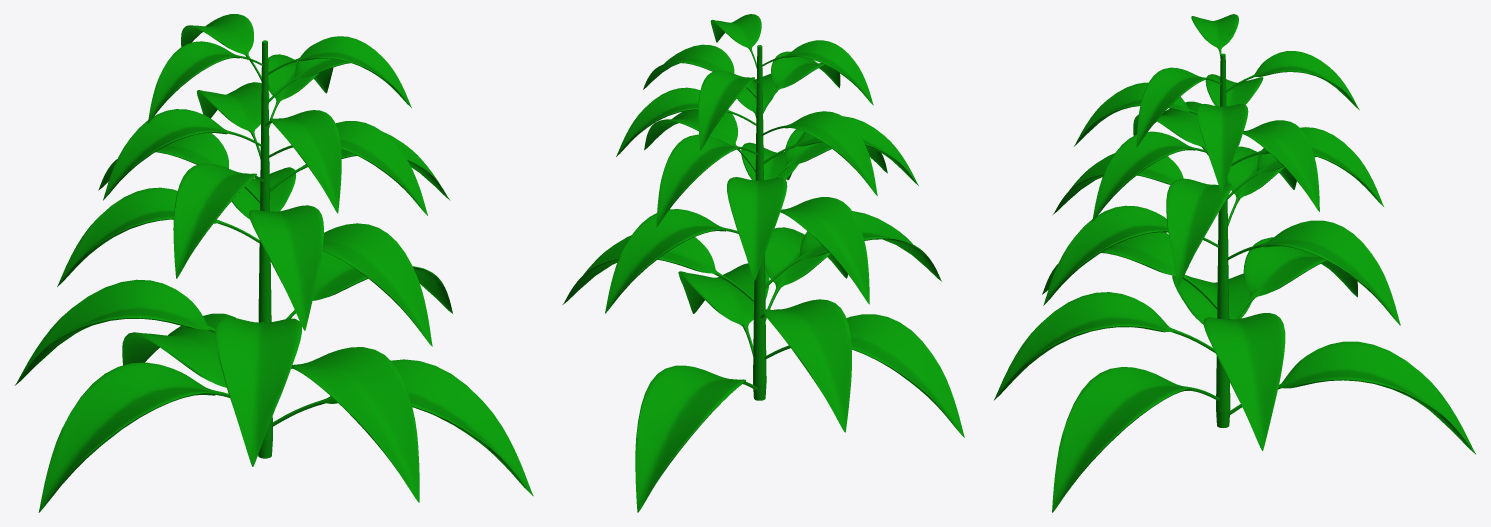
File: Plant.fbx
The picture shows the model from 3 angles, left to right: view 1: azimuth 30°, elevation 25°; view 2: azimuth 150°, elevation 25°; view 3: azimuth 270°, elevation 25°; orthographic projection. The views are drawn at different scales.
Visible parts, largest first — view 1: Plant; view 2: Plant; view 3: Plant.
Boxes of the visible parts, left/top/right/bottom form: Plant: left=14, top=14, right=533, bottom=512; Plant: left=562, top=14, right=964, bottom=512; Plant: left=994, top=14, right=1475, bottom=512.
Size of the model in its own units: 49.37 by 48.3 by 51.94.
